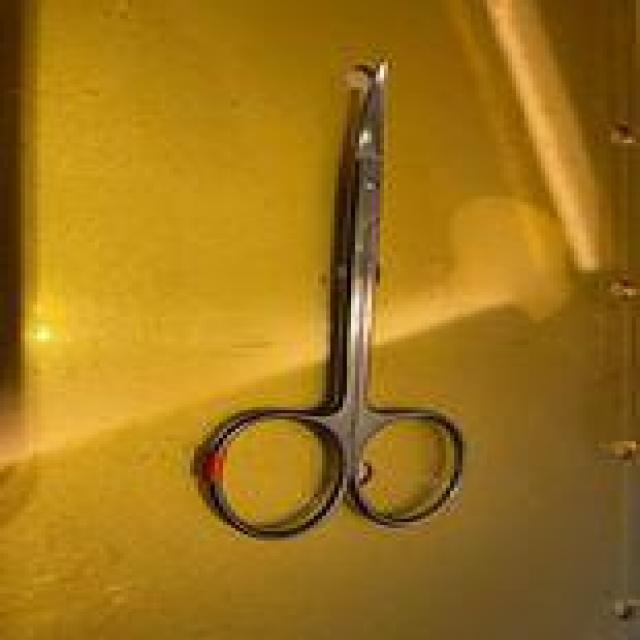Iris: (190, 53, 471, 547)
